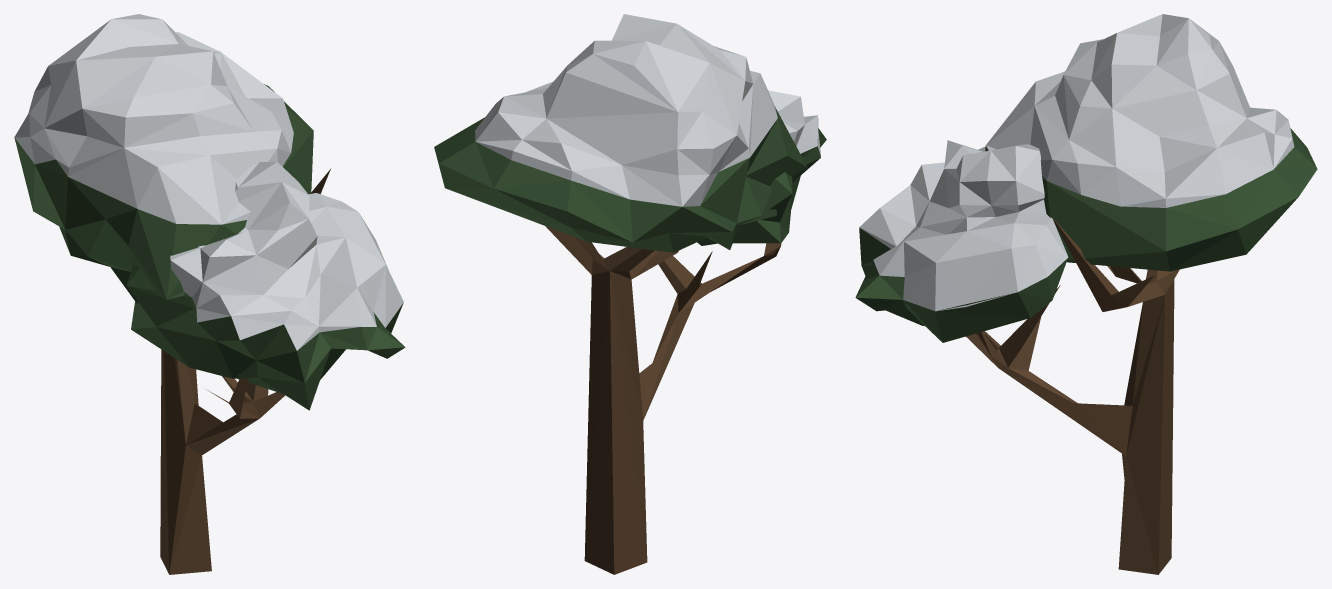
Rendered from tree_winter_2.glb.
The picture shows the model from 3 angles, left to right: view 1: azimuth 30°, elevation 25°; view 2: azimuth 150°, elevation 25°; view 3: azimuth 270°, elevation 25°; orthographic projection. The views are drawn at different scales.
Parts seen in each view (by area): view 1: lod0; view 2: lod0; view 3: lod0.
Part boxes in pixels (bbox=[...]): lod0: bbox=[14, 14, 405, 574]; lod0: bbox=[434, 14, 826, 574]; lod0: bbox=[855, 14, 1317, 574].
Size of what is drawn, in the model's own units: 3.57 by 6.79 by 5.46.
